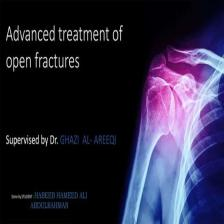open-compound-fracture: (120, 18, 224, 224)
